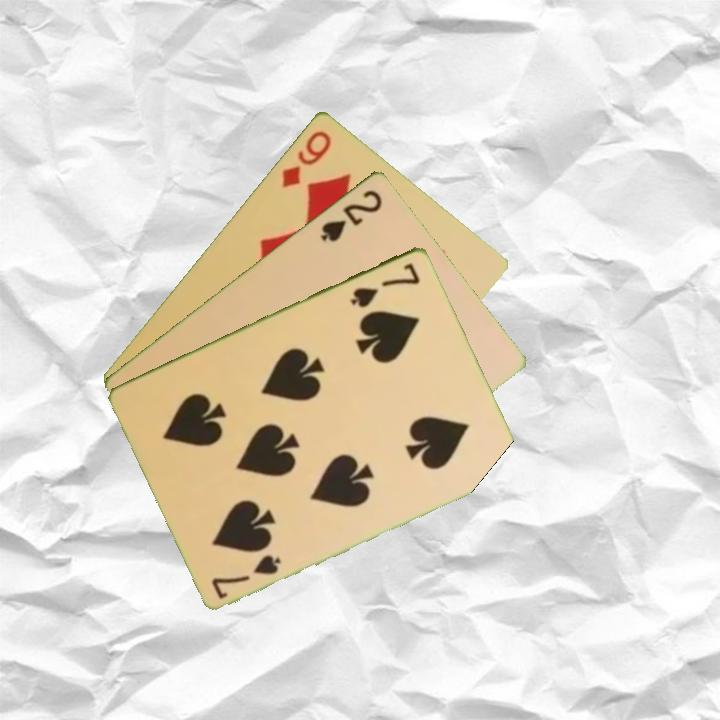2s: (317, 185, 385, 245)
7s: (347, 259, 423, 310), (208, 550, 284, 601)
9d: (278, 126, 335, 190)
